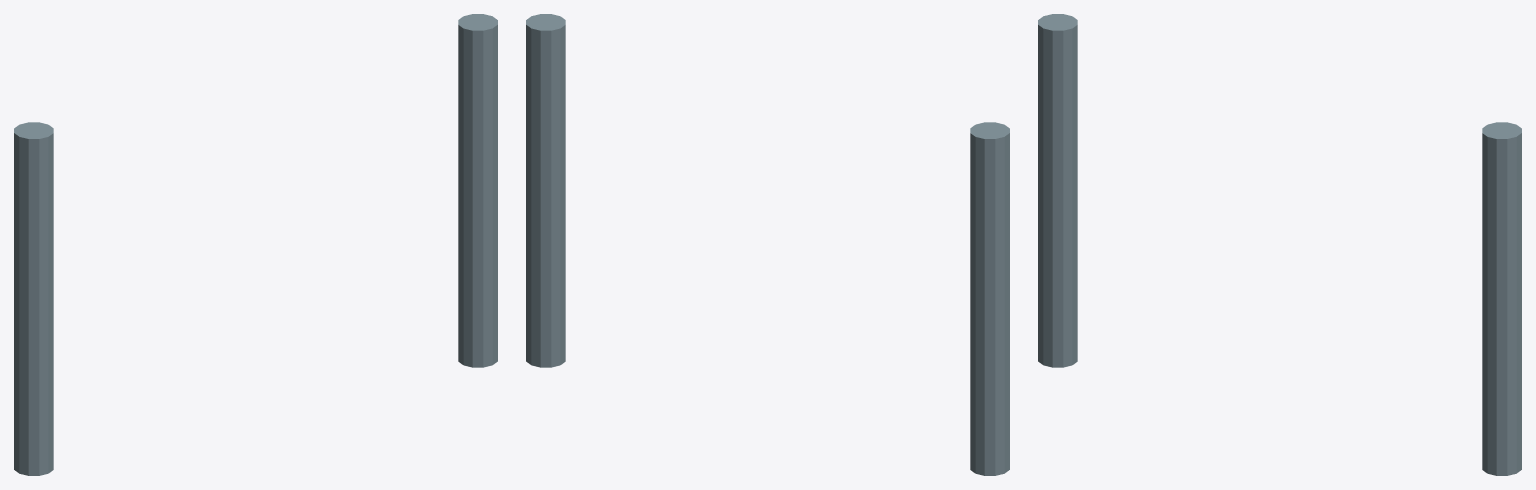
The model's file is Utility_SolarArray_Stand.glb.
3 views of the same model, side by side, from view 1: azimuth 30°, elevation 25°; view 2: azimuth 150°, elevation 25°; view 3: azimuth 330°, elevation 25° (orthographic).
Parts seen in each view (by area): view 1: Utility_SolarArray_Stand; view 2: Utility_SolarArray_Stand; view 3: Utility_SolarArray_Stand.
Part boxes in pixels (x1,y1,x2,y2): Utility_SolarArray_Stand: [14, 14, 497, 475]; Utility_SolarArray_Stand: [526, 14, 1009, 475]; Utility_SolarArray_Stand: [1038, 14, 1521, 475].
Bounding box in the file's own units: 2.15 × 1.45 × 0.1545.
